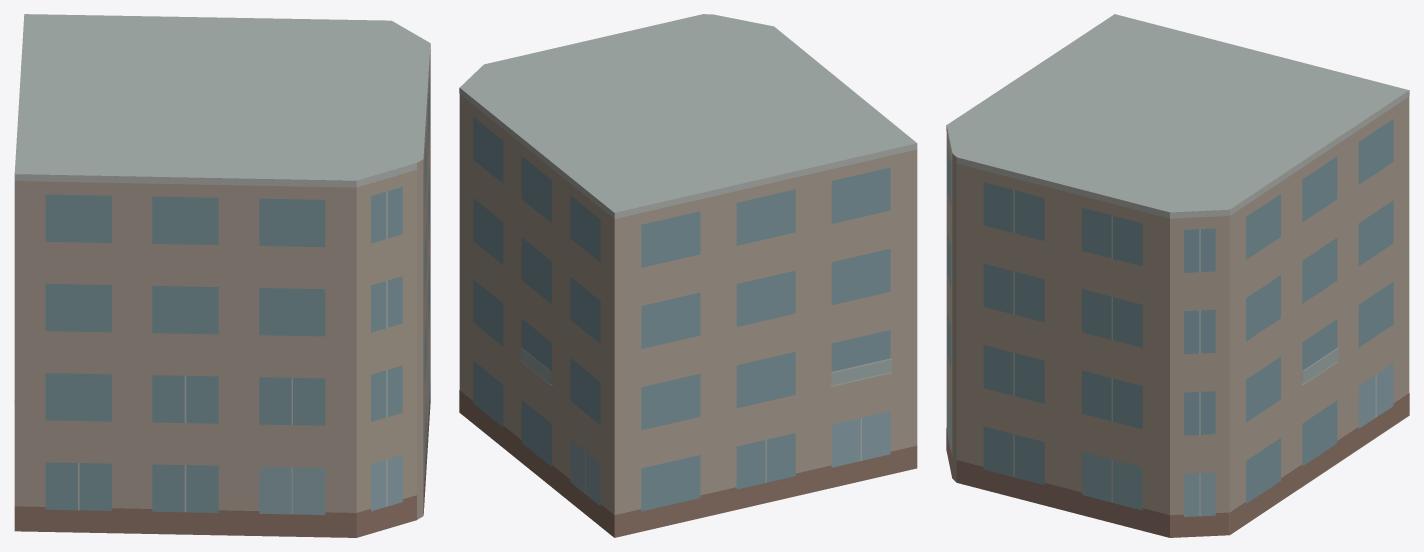
The model's file is survey-upis-32731917.glb.
3 renders of one model, left to right at view 1: azimuth 30°, elevation 25°; view 2: azimuth 150°, elevation 25°; view 3: azimuth 270°, elevation 25°, orthographic. The views are drawn at different scales.
Parts seen in each view (by area): view 1: survey-upis-32731917.tmp; view 2: survey-upis-32731917.tmp; view 3: survey-upis-32731917.tmp.
Part boxes in pixels (x1,y1,x2,y2): survey-upis-32731917.tmp: (14,14,430,537); survey-upis-32731917.tmp: (459,14,917,537); survey-upis-32731917.tmp: (946,14,1409,537).
Size of the model in its own units: 16.74 by 12.8 by 16.5.
